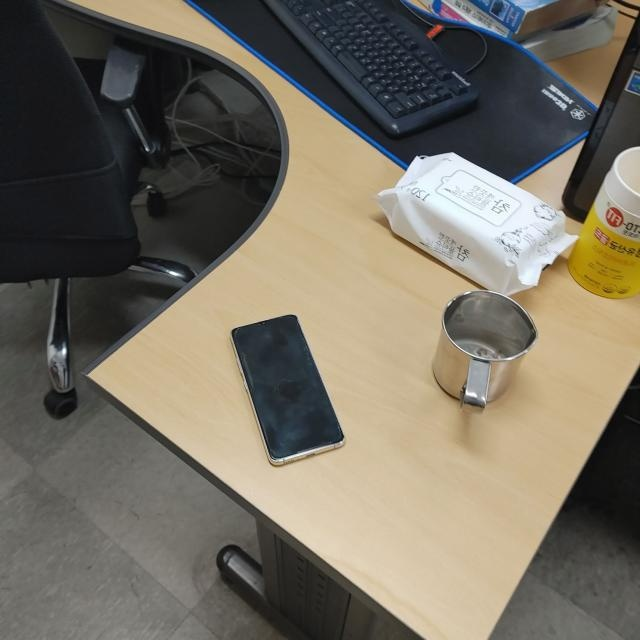cup: (428, 289, 538, 411)
phone: (232, 314, 343, 470)
